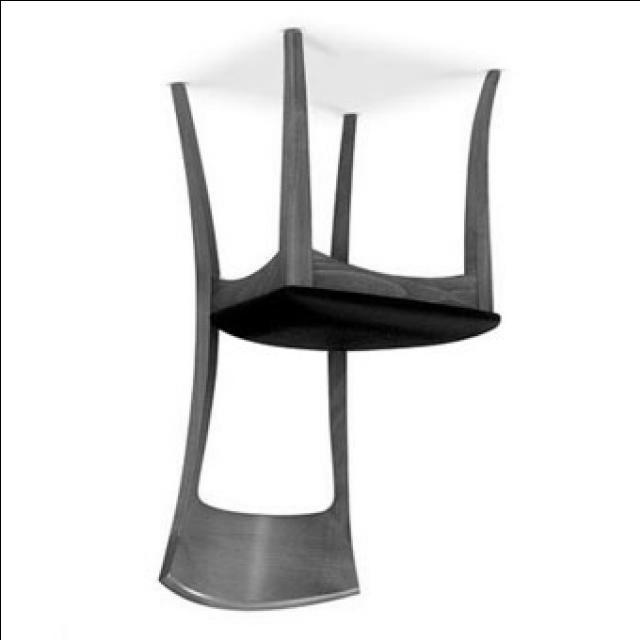chair: (153, 26, 502, 614)
